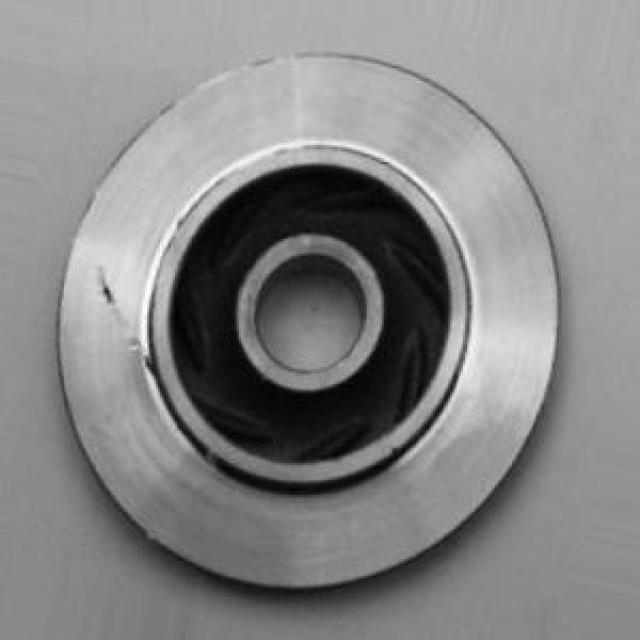Defect: (90, 267, 128, 325)
